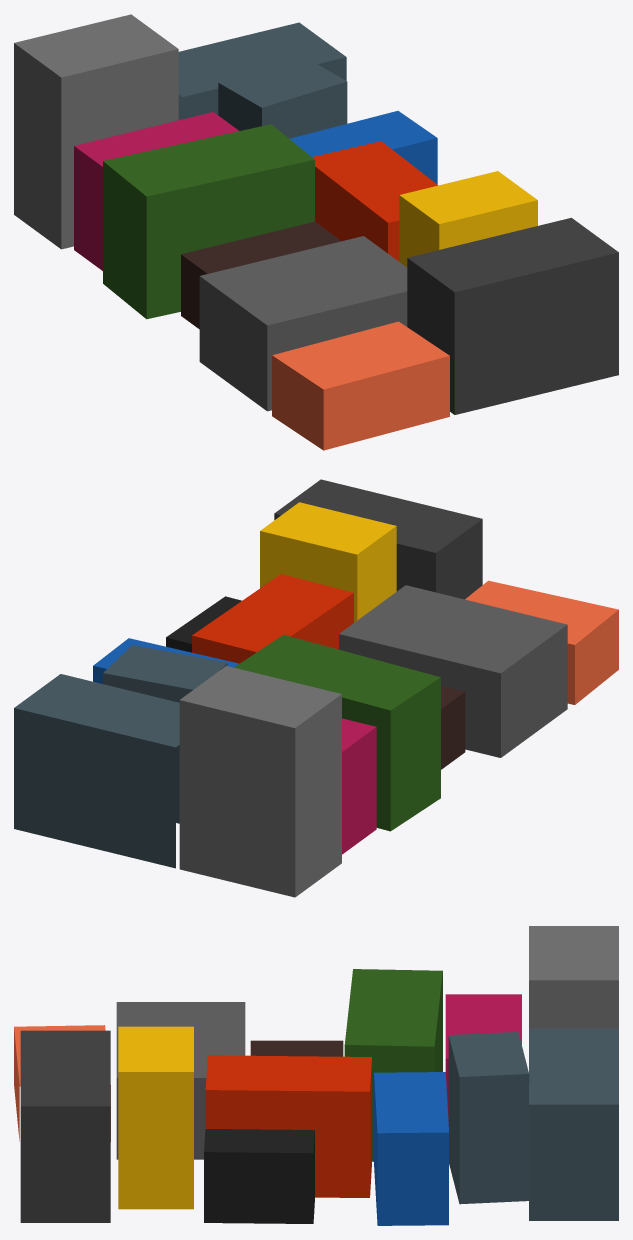
File: Luggage_Pile_1.fbx
The picture shows the model from 3 angles, top to bottom: view 1: azimuth 30°, elevation 25°; view 2: azimuth 150°, elevation 25°; view 3: azimuth 270°, elevation 25°; orthographic projection. The views are drawn at different scales.
Parts seen in each view (by area): view 1: Luggage_Pile_1; view 2: Luggage_Pile_1; view 3: Luggage_Pile_1.
Part boxes in pixels (box(x1,y1,x2,y2)): Luggage_Pile_1: box(14, 14, 618, 450); Luggage_Pile_1: box(14, 479, 618, 897); Luggage_Pile_1: box(14, 926, 618, 1225).
Size of the model in its own units: 132 by 70 by 236.
1 material, 1 textured.
